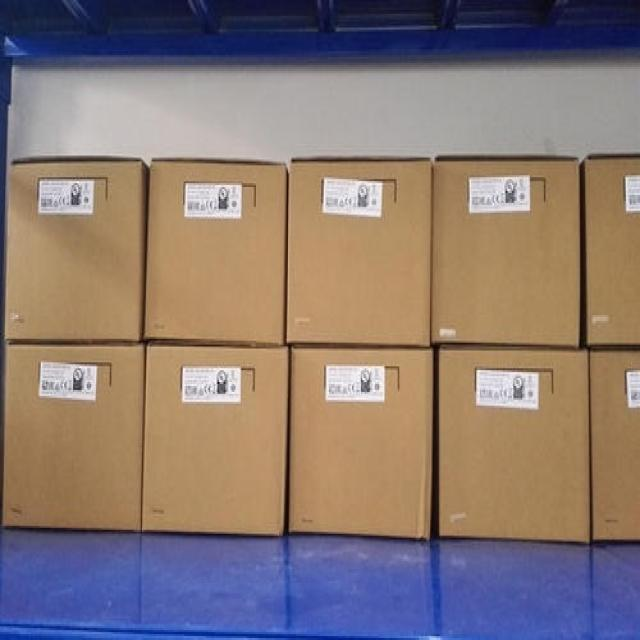box: (438, 347, 591, 544), (141, 343, 289, 536), (288, 345, 433, 540), (285, 158, 433, 349), (431, 158, 579, 349), (1, 341, 145, 532), (4, 156, 150, 343), (145, 161, 289, 347), (579, 154, 640, 347), (589, 349, 640, 540)
